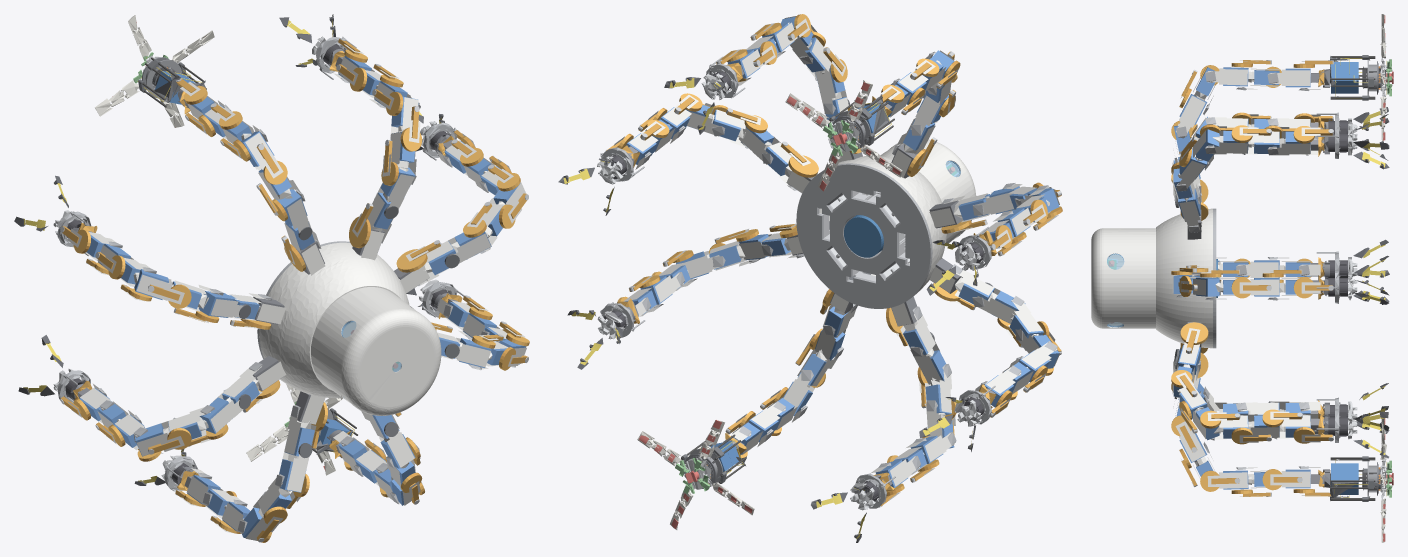
File: cephalo2_mixed_stand.glb
3 renders of one model, left to right at view 1: azimuth 30°, elevation 25°; view 2: azimuth 150°, elevation 25°; view 3: azimuth 270°, elevation 25°, orthographic. The views are drawn at different scales.
Visible parts, largest first — view 1: arms and hands|c0, turret shell|shell, arms and hands|c7, arms and hands|c3, arms and hands|c4, arms and hands|c6, arms and hands|c26, arms and hands|c2, arms and hands|c8, arms and hands|c12, arms and hands|c1, bayonet connectors|sockets (+7 smaller); view 2: arms and hands|c0, body|plate, arms and hands|c7, arms and hands|c6, arms and hands|c3, arms and hands|c4, turret shell|shell, arms and hands|c26, arms and hands|c11, arms and hands|c2, arms and hands|c12, arms and hands|c13 (+12 smaller); view 3: arms and hands|c0, turret shell|shell, arms and hands|c7, arms and hands|c3, arms and hands|c4, arms and hands|c6, arms and hands|c12, arms and hands|c10, arms and hands|c16, arms and hands|c13, arms and hands|c15, arms and hands|c17 (+9 smaller).
Boxes of the visible parts, box(x1,y1,x2,y2) form: arms and hands|c0: box(67, 44, 526, 540); turret shell|shell: box(259, 242, 441, 415); arms and hands|c7: box(79, 55, 526, 537); arms and hands|c3: box(73, 49, 529, 541); arms and hands|c4: box(60, 38, 528, 540); arms and hands|c6: box(57, 37, 515, 533); arms and hands|c26: box(95, 15, 342, 475); arms and hands|c2: box(74, 53, 529, 542); arms and hands|c8: box(238, 206, 459, 458); arms and hands|c12: box(14, 14, 444, 485); arms and hands|c1: box(252, 229, 429, 424); bayonet connectors|sockets: box(73, 51, 462, 490); arms and hands|c0: box(611, 16, 1059, 500); body|plate: box(796, 163, 932, 308); arms and hands|c7: box(625, 16, 1059, 487); arms and hands|c6: box(600, 51, 1057, 508); arms and hands|c3: box(617, 14, 1061, 495); arms and hands|c4: box(606, 22, 1061, 506); turret shell|shell: box(819, 139, 976, 295); arms and hands|c26: box(637, 80, 902, 529); arms and hands|c11: box(597, 73, 981, 510); arms and hands|c2: box(629, 14, 1062, 495); arms and hands|c12: box(558, 77, 978, 542); arms and hands|c13: box(563, 78, 976, 539); arms and hands|c0: box(1172, 60, 1320, 496); turret shell|shell: box(1091, 208, 1212, 348); arms and hands|c7: box(1173, 67, 1310, 489); arms and hands|c3: box(1171, 63, 1314, 493); arms and hands|c4: box(1179, 60, 1332, 496); arms and hands|c6: box(1176, 71, 1340, 469); arms and hands|c12: box(1353, 107, 1389, 458); arms and hands|c10: box(1328, 120, 1347, 436); arms and hands|c16: box(1331, 62, 1358, 494); arms and hands|c13: box(1362, 110, 1385, 454); arms and hands|c15: box(1330, 56, 1375, 500); arms and hands|c17: box(1330, 55, 1380, 501).
Bounding box in the file's own units: 0.7781 × 0.883 × 0.5421.
